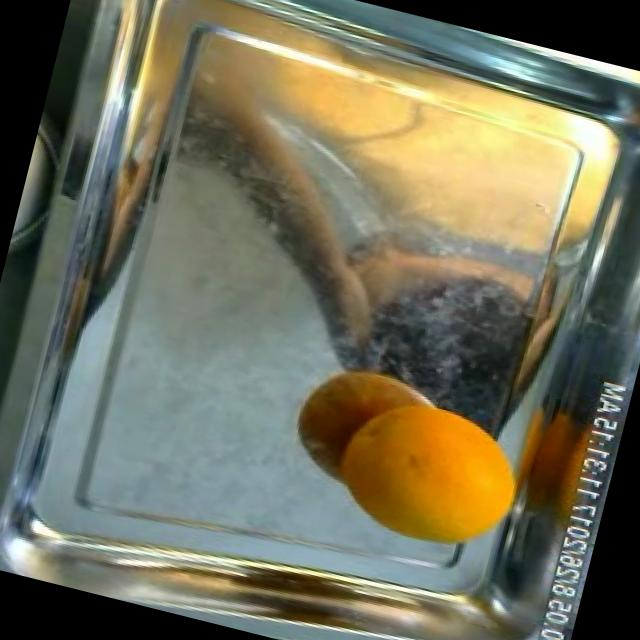Fruit: (304, 374, 552, 580), (8, 112, 78, 255)
